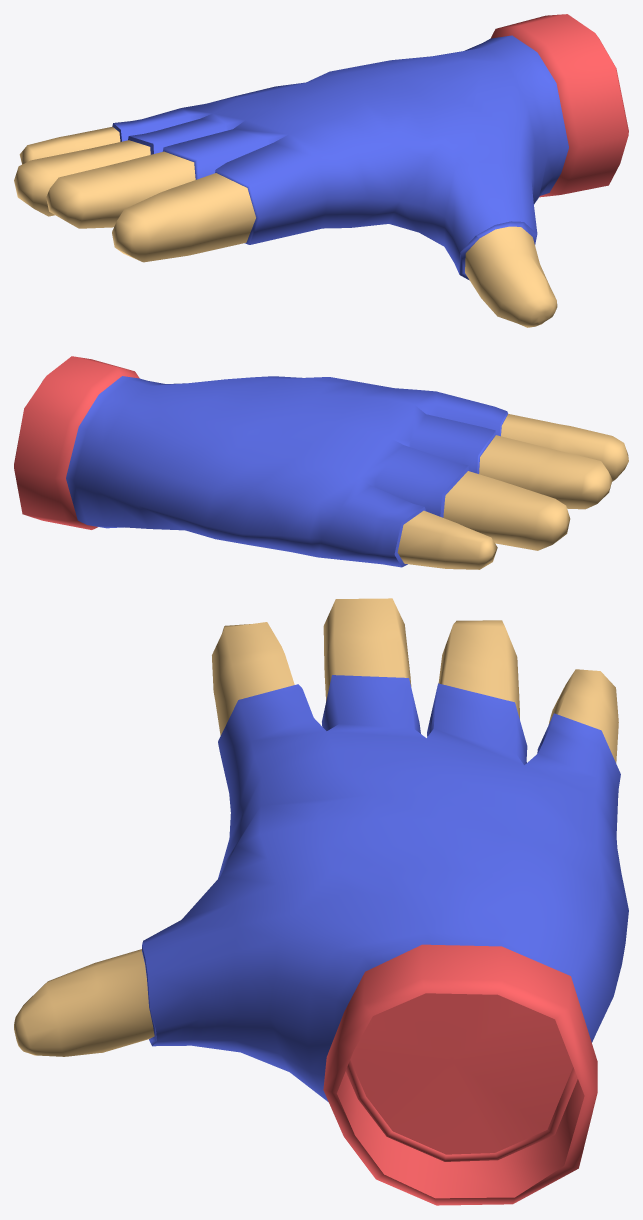
The model's file is Right_Arm_03_01.fbx.
The picture shows the model from 3 angles, top to bottom: view 1: azimuth 30°, elevation 25°; view 2: azimuth 150°, elevation 25°; view 3: azimuth 270°, elevation 25°; orthographic projection. The views are drawn at different scales.
Parts seen in each view (by area): view 1: Right_Arm_03_01; view 2: Right_Arm_03_01; view 3: Right_Arm_03_01.
Boxes of the visible parts, <box> form: Right_Arm_03_01: <box>14,14,628,327</box>; Right_Arm_03_01: <box>14,356,628,569</box>; Right_Arm_03_01: <box>14,598,628,1205</box>.
Size of the model in its own units: 26.07 by 7.21 by 16.87.
